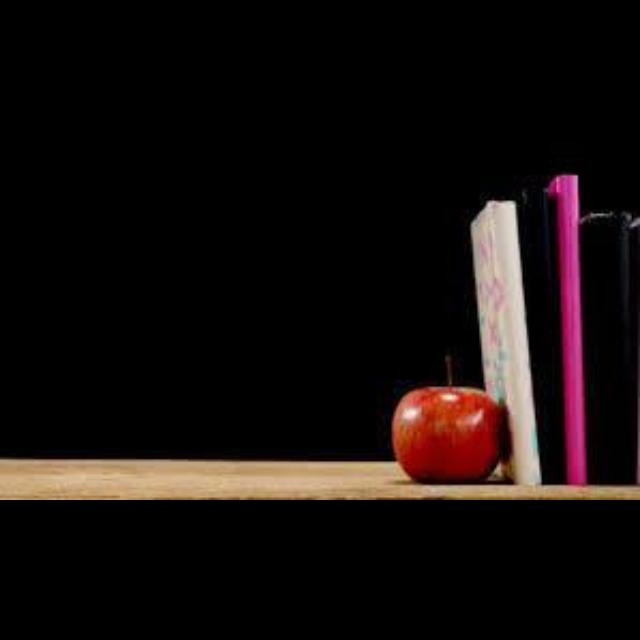apple: (392, 360, 503, 480)
